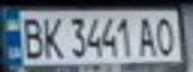1: (115, 15, 136, 57)
3: (63, 14, 87, 58)
4: (81, 14, 103, 57), (100, 14, 121, 57)
A: (136, 14, 160, 57)
B: (18, 14, 45, 61)
K: (39, 13, 66, 60)
O: (151, 14, 178, 56)
